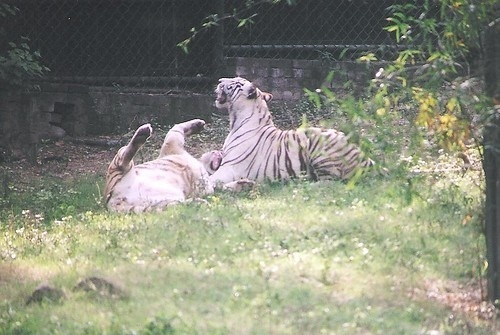tigre: (211, 73, 394, 190), (103, 114, 224, 217)
